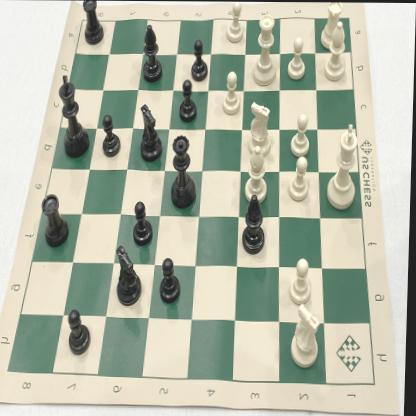black-bishop: (114, 242, 145, 312), (240, 192, 272, 255), (138, 20, 167, 86), (138, 101, 165, 164)
black-king: (56, 70, 95, 162)
black-pawn: (68, 305, 95, 359), (158, 254, 186, 306), (131, 199, 158, 250), (100, 110, 124, 160), (188, 38, 213, 84), (178, 76, 200, 126)
black-queen: (168, 132, 199, 212)
black-rook: (40, 190, 73, 249), (80, 0, 107, 48)
white-bishop: (322, 21, 350, 82), (245, 145, 270, 204)
white-king: (322, 121, 362, 212)
white-knight: (288, 304, 324, 370), (247, 99, 275, 158)
white-pawn: (289, 255, 316, 308), (288, 154, 313, 205), (289, 110, 313, 160), (284, 35, 308, 83), (221, 69, 244, 119), (224, 2, 245, 48)
white-queen: (249, 9, 280, 90)
white-rook: (318, 2, 346, 50)
